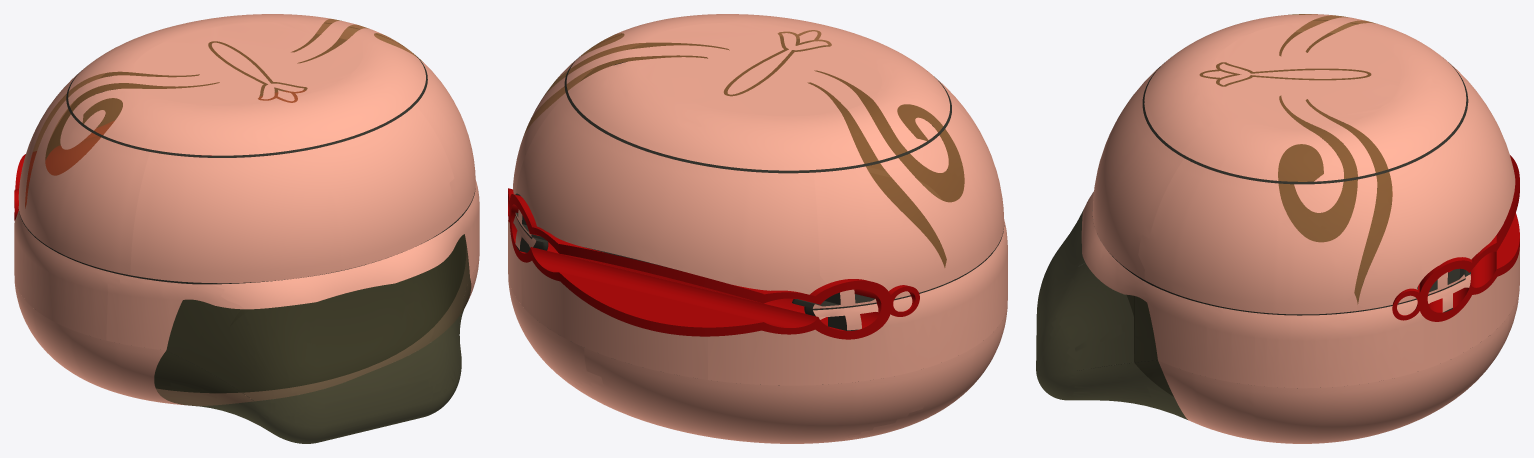
The picture shows the model from 3 angles, left to right: view 1: azimuth 30°, elevation 25°; view 2: azimuth 150°, elevation 25°; view 3: azimuth 270°, elevation 25°; orthographic projection. The views are drawn at different scales.
Parts seen in each view (by area): view 1: mesh_2, mesh_1, mesh_3, mesh_5, mesh_4, mesh_0; view 2: mesh_2, mesh_5, mesh_0, mesh_3, mesh_4; view 3: mesh_2, mesh_5, mesh_1, mesh_3, mesh_4, mesh_0.
Boxes of the visible parts, x1,y1,x2,y2 form: mesh_2: (14, 14, 479, 405); mesh_1: (154, 234, 471, 443); mesh_3: (18, 23, 475, 400); mesh_5: (14, 180, 479, 350); mesh_4: (25, 18, 423, 208); mesh_0: (14, 90, 305, 220); mesh_2: (508, 14, 1007, 443); mesh_5: (508, 216, 1007, 385); mesh_0: (508, 188, 919, 339); mesh_3: (515, 34, 1004, 385); mesh_4: (522, 30, 964, 267); mesh_2: (1092, 14, 1519, 443); mesh_5: (1081, 191, 1519, 388); mesh_1: (1036, 209, 1187, 419); mesh_3: (1077, 20, 1470, 395); mesh_4: (1199, 14, 1392, 304); mesh_0: (1392, 155, 1519, 321).
Size of the model in its own units: 0.1374 by 0.0899 by 0.1338.
